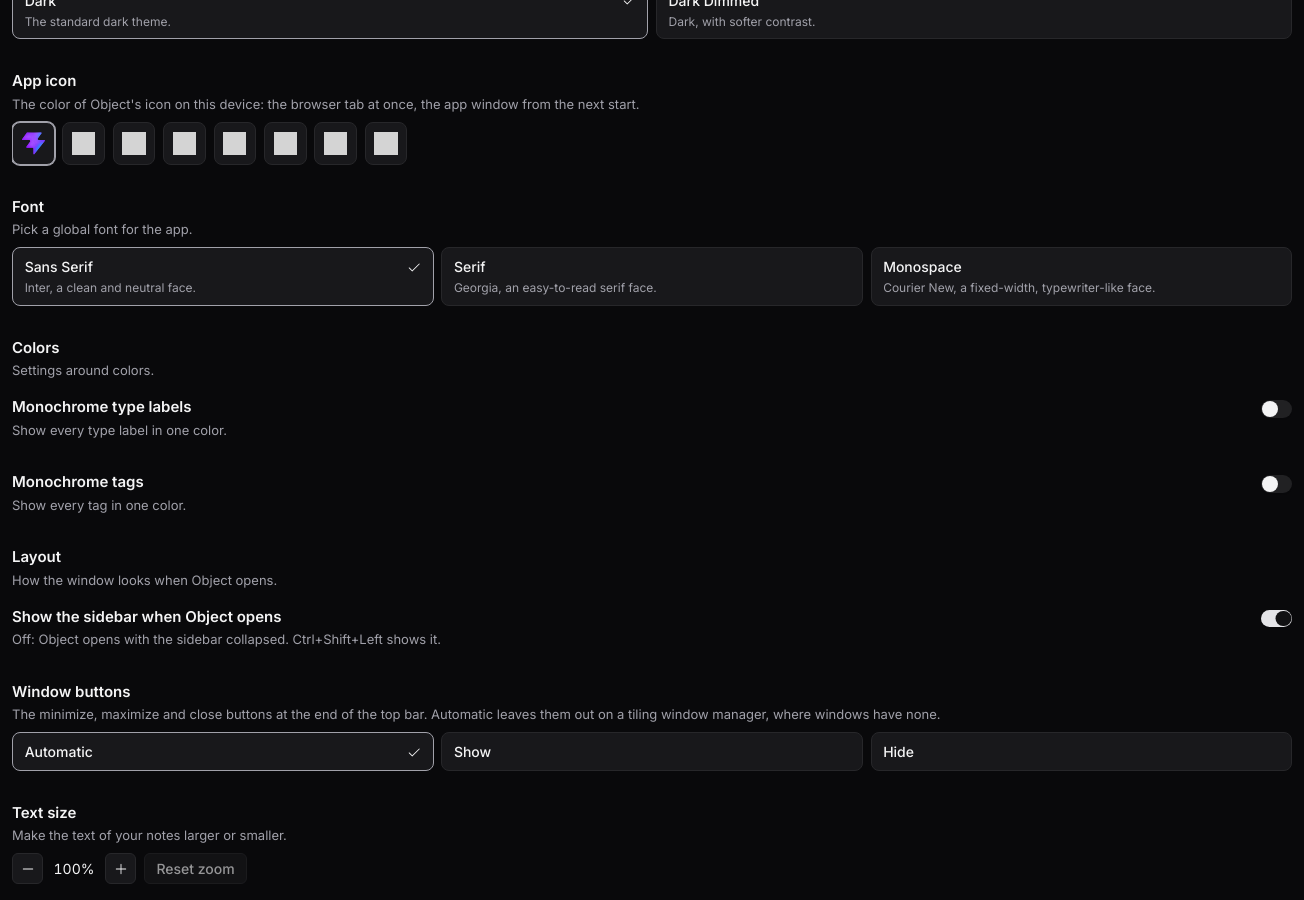
Test: AppearanceSection: Window buttons › test Automatic on a tiling compositor: no buttons until Show
This screenshot has width=1304, height=900.
(page scrolled)
Step 1. Click the radio button labelled "Show" → (473, 752), box [441,732,863,771]
(page scrolled)
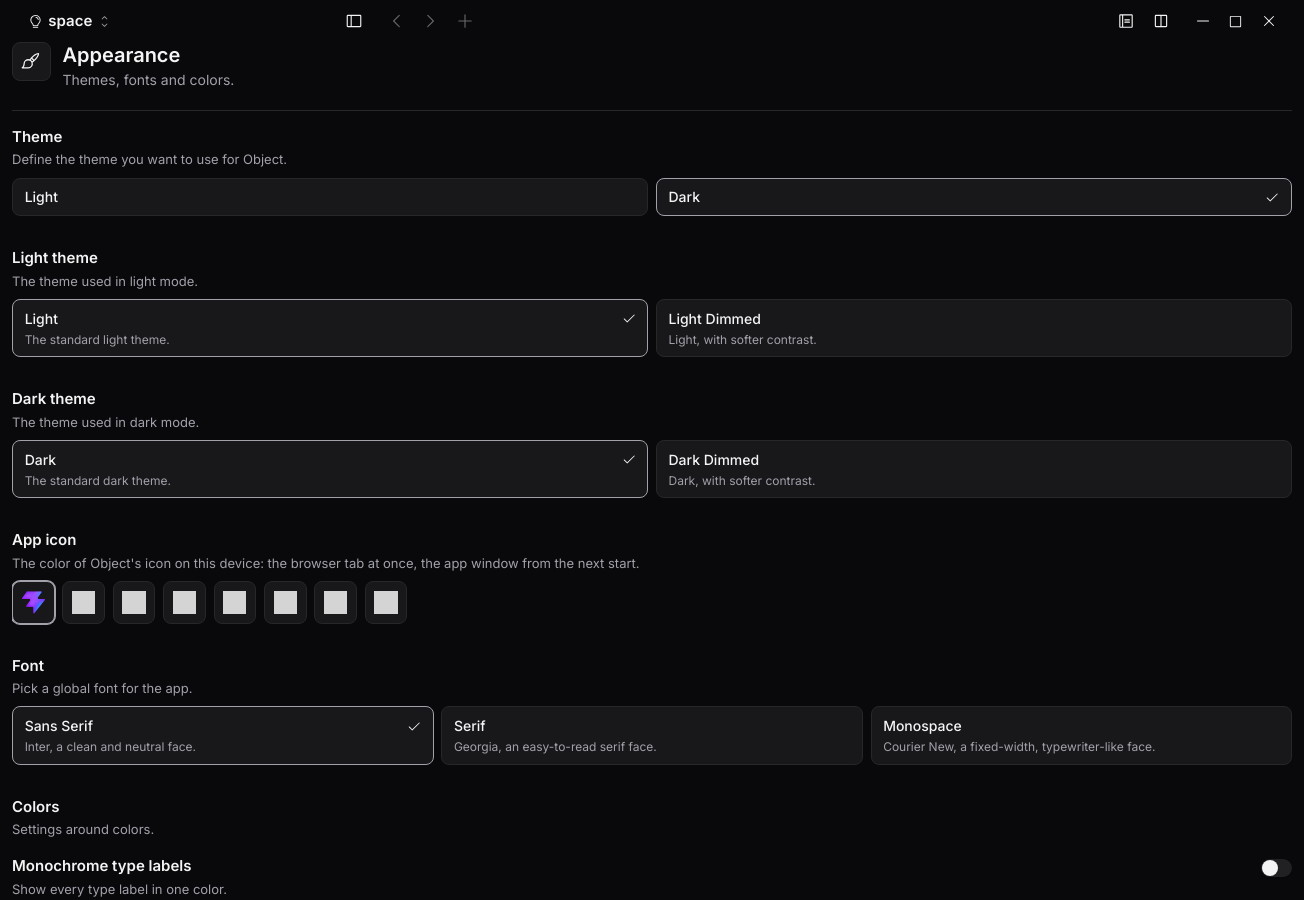
Check: the button named "Close" is shown, box [1252,0,1292,42]
